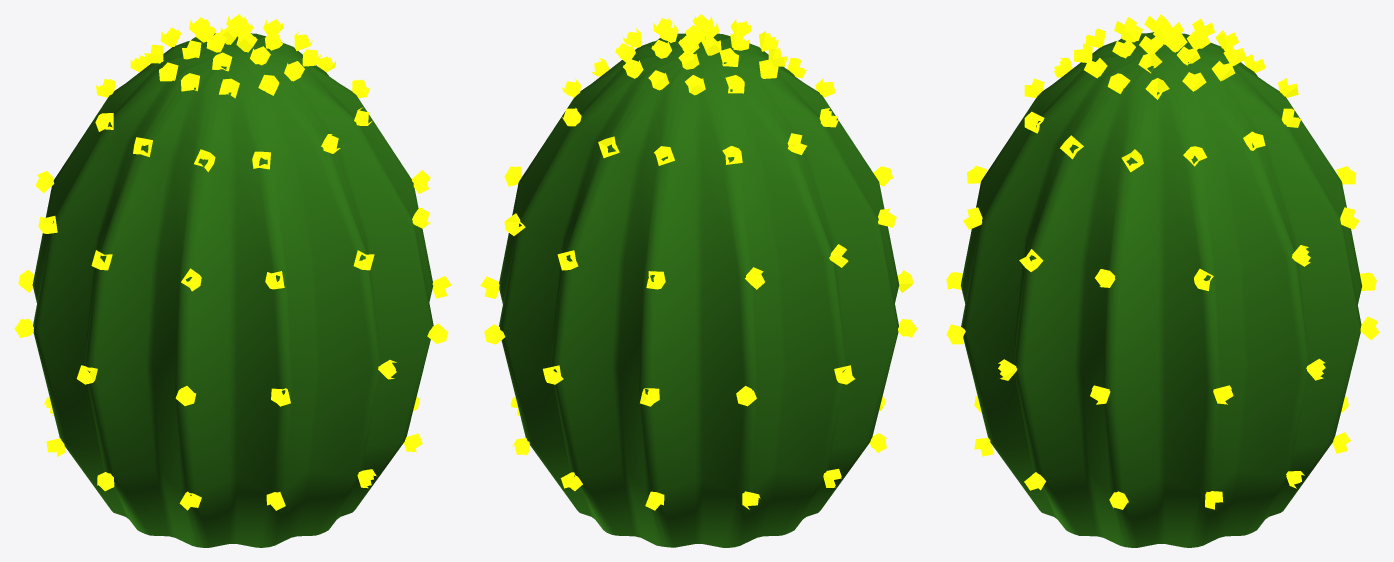
File: kaktus07.fbx
The picture shows the model from 3 angles, left to right: view 1: azimuth 30°, elevation 25°; view 2: azimuth 150°, elevation 25°; view 3: azimuth 270°, elevation 25°; orthographic projection.
Visible parts, largest first — view 1: kaktus07; view 2: kaktus07; view 3: kaktus07.
Boxes of the visible parts, x1,y1,x2,y2 form: kaktus07: [14, 14, 451, 547]; kaktus07: [480, 14, 917, 547]; kaktus07: [946, 14, 1379, 547].
Bounding box in the file's own units: 0.5409 × 0.5445 × 0.6415.
